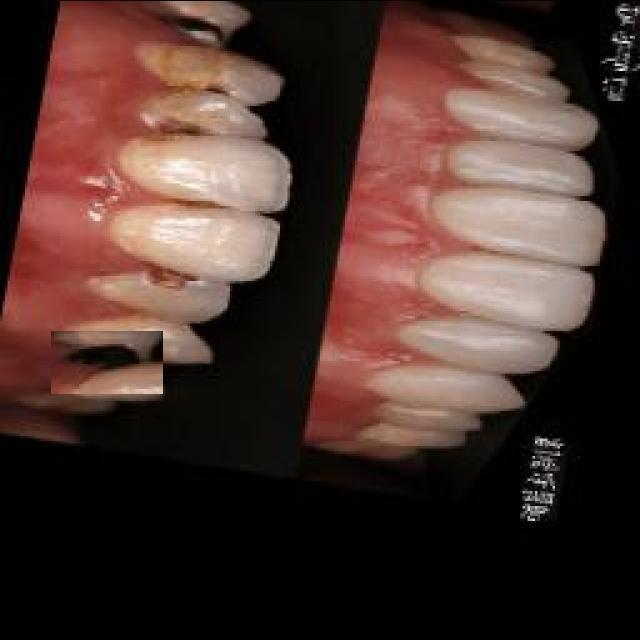decay: (52, 330, 164, 393), (120, 243, 212, 296)
